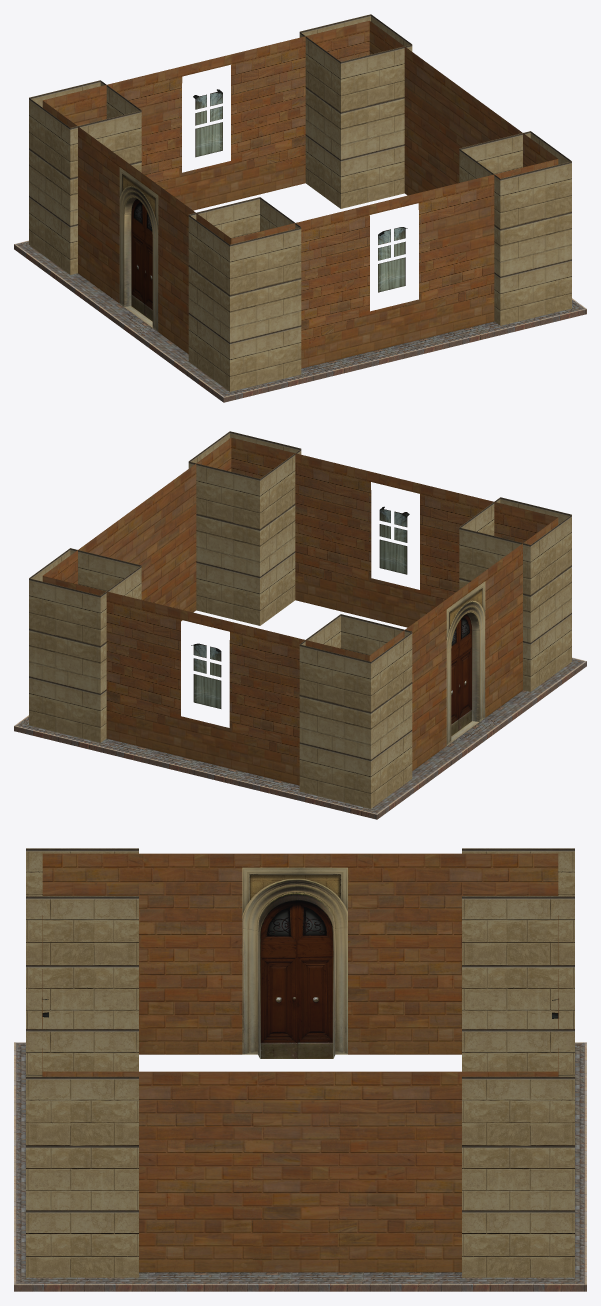
File: tower_10x10.fbx
3 renders of one model, top to bottom at view 1: azimuth 30°, elevation 25°; view 2: azimuth 150°, elevation 25°; view 3: azimuth 270°, elevation 25°, orthographic. The views are drawn at different scales.
Parts seen in each view (by area): view 1: tower_10x10; view 2: tower_10x10; view 3: tower_10x10.
Boxes of the visible parts, x1,y1,x2,y2 form: tower_10x10: (14,14,586,402); tower_10x10: (14,431,586,819); tower_10x10: (14,848,586,1291).
Bounding box in the file's own units: 1000 × 400 × 1000.
